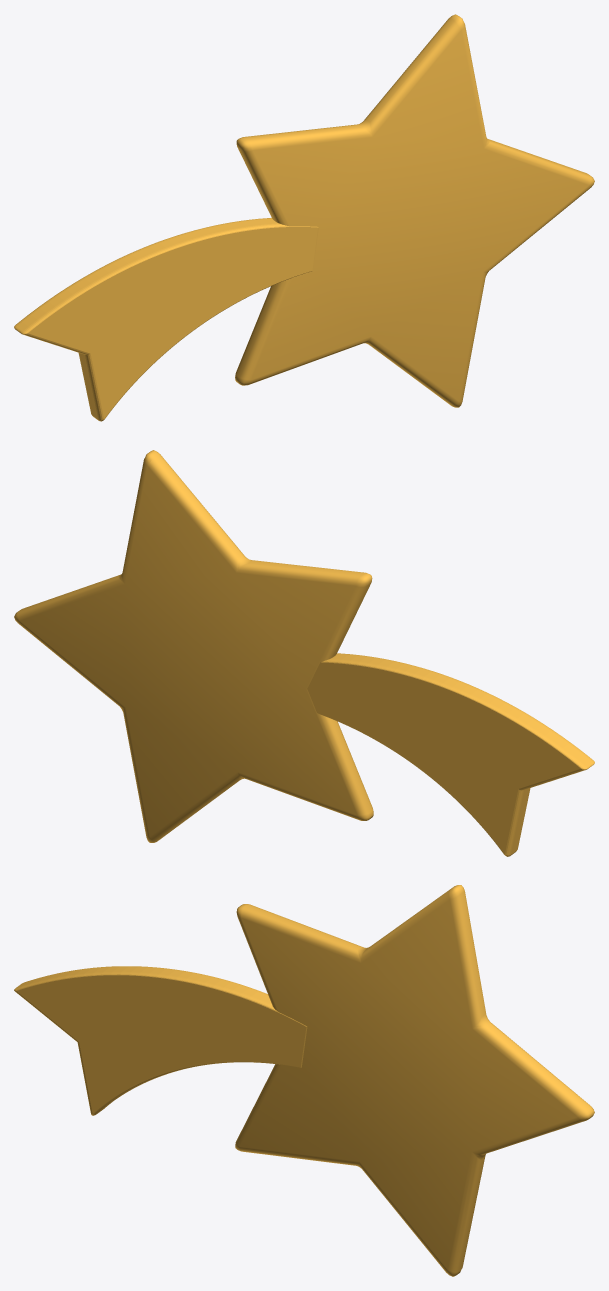
The model's file is star.gltf.
3 renders of one model, top to bottom at view 1: azimuth 30°, elevation 25°; view 2: azimuth 150°, elevation 25°; view 3: azimuth 330°, elevation 25°, orthographic.
Visible parts, largest first — view 1: star; view 2: star; view 3: star.
Boxes of the visible parts, <box> form: star: <box>14,14,594,421</box>; star: <box>14,450,594,856</box>; star: <box>14,885,594,1276</box>.
Size of the model in its own units: 1.43 by 0.926 by 0.0505.
